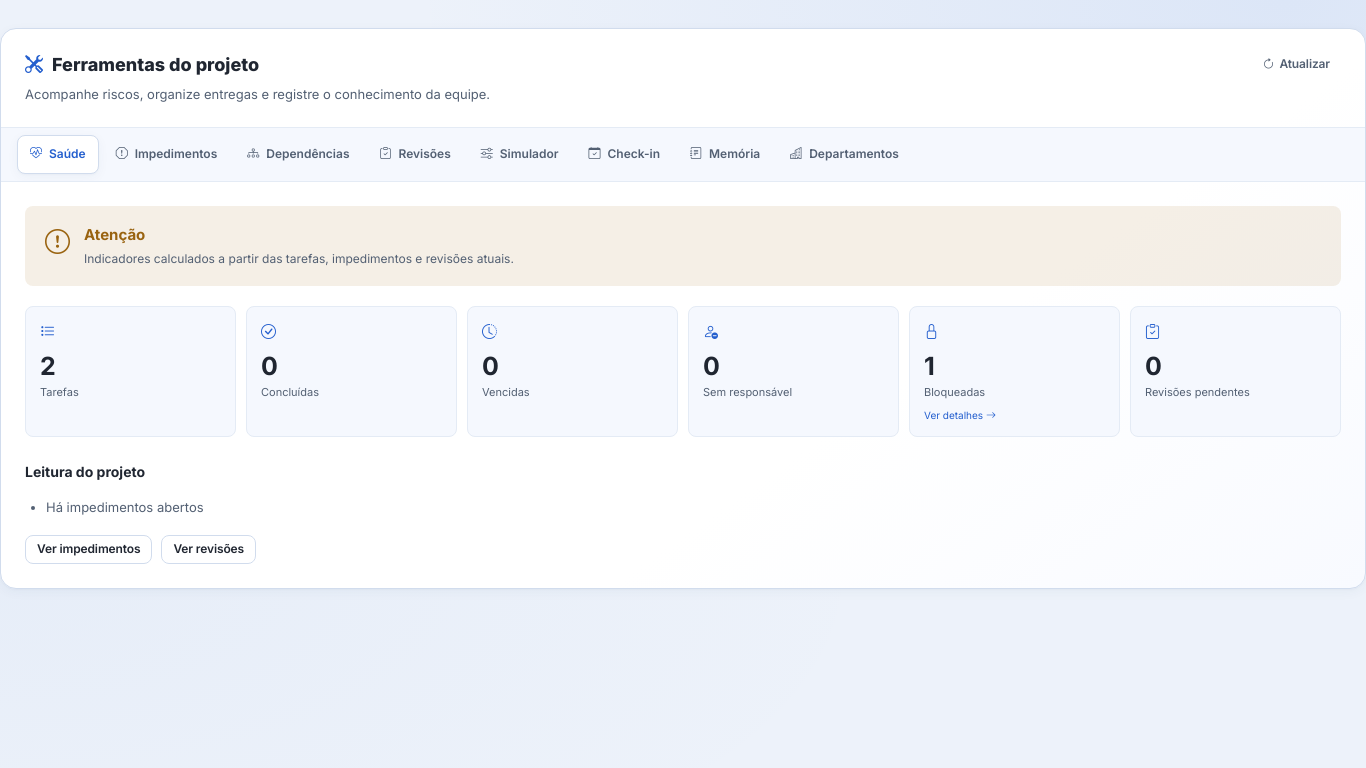
Test case: permissão usa canManage do projeto e restringe revisão às tarefas do usuário
The image size is (1366, 768).
Step 1. Click the tab "Dependências" → {"x": 298, "y": 154}, box [234,135,362,174]
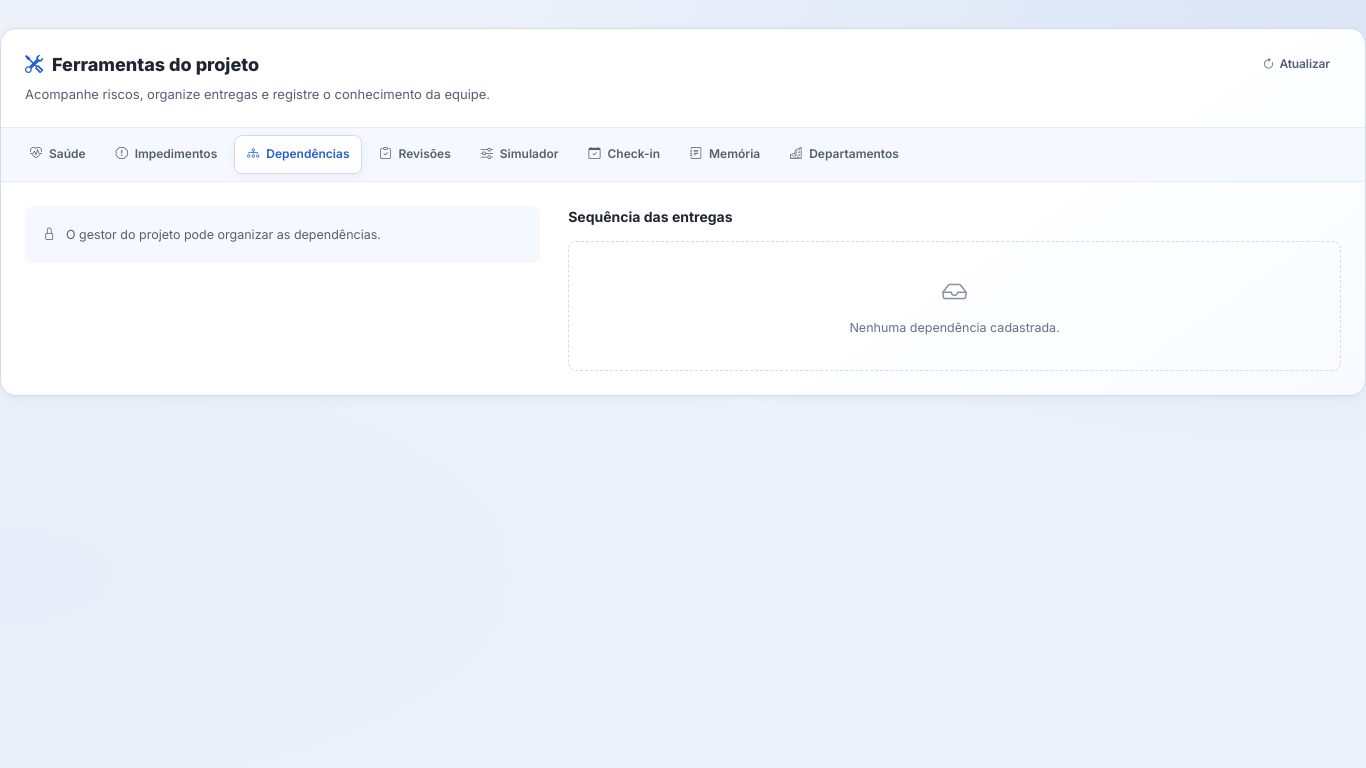
Step 2. Click the tab "Simulador" → {"x": 520, "y": 154}, box [468,135,572,174]
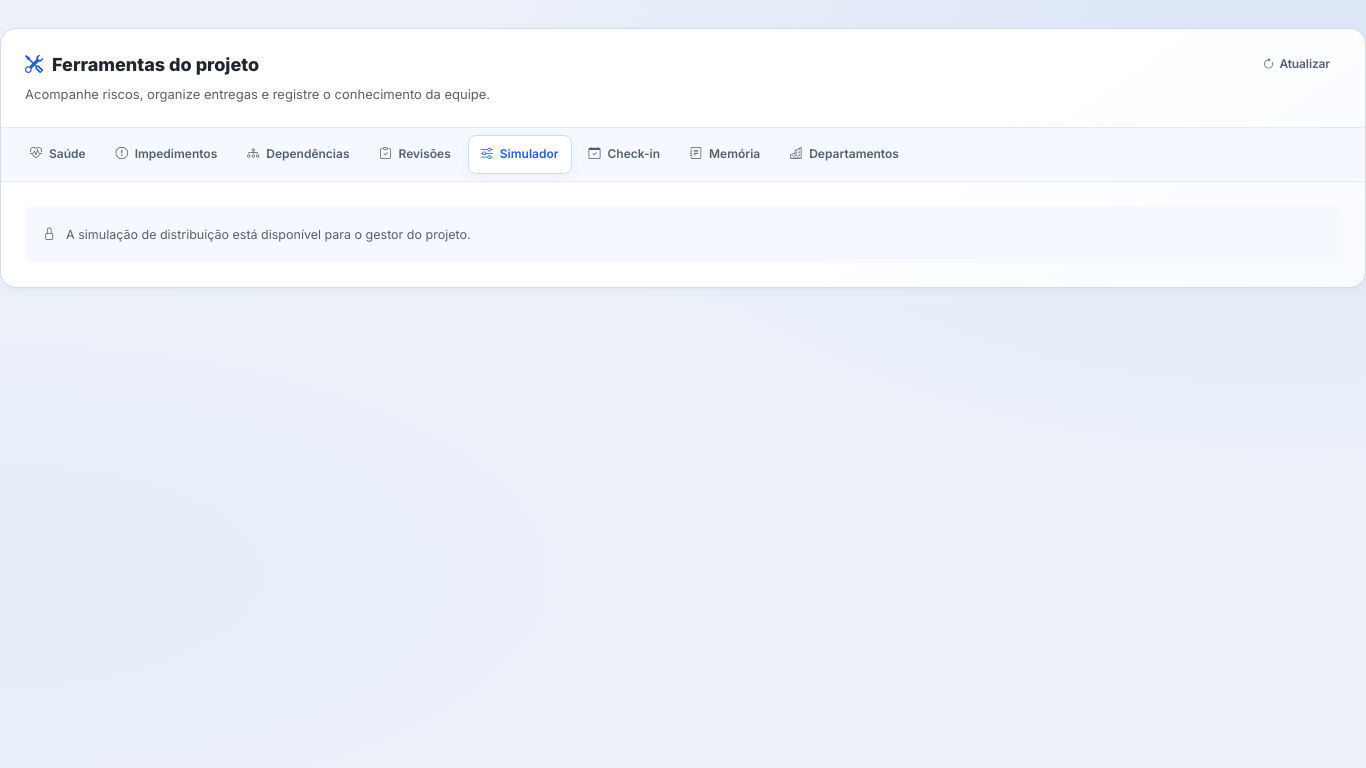
Step 3. Click the tab "Revisões" → {"x": 415, "y": 154}, box [366,135,464,174]
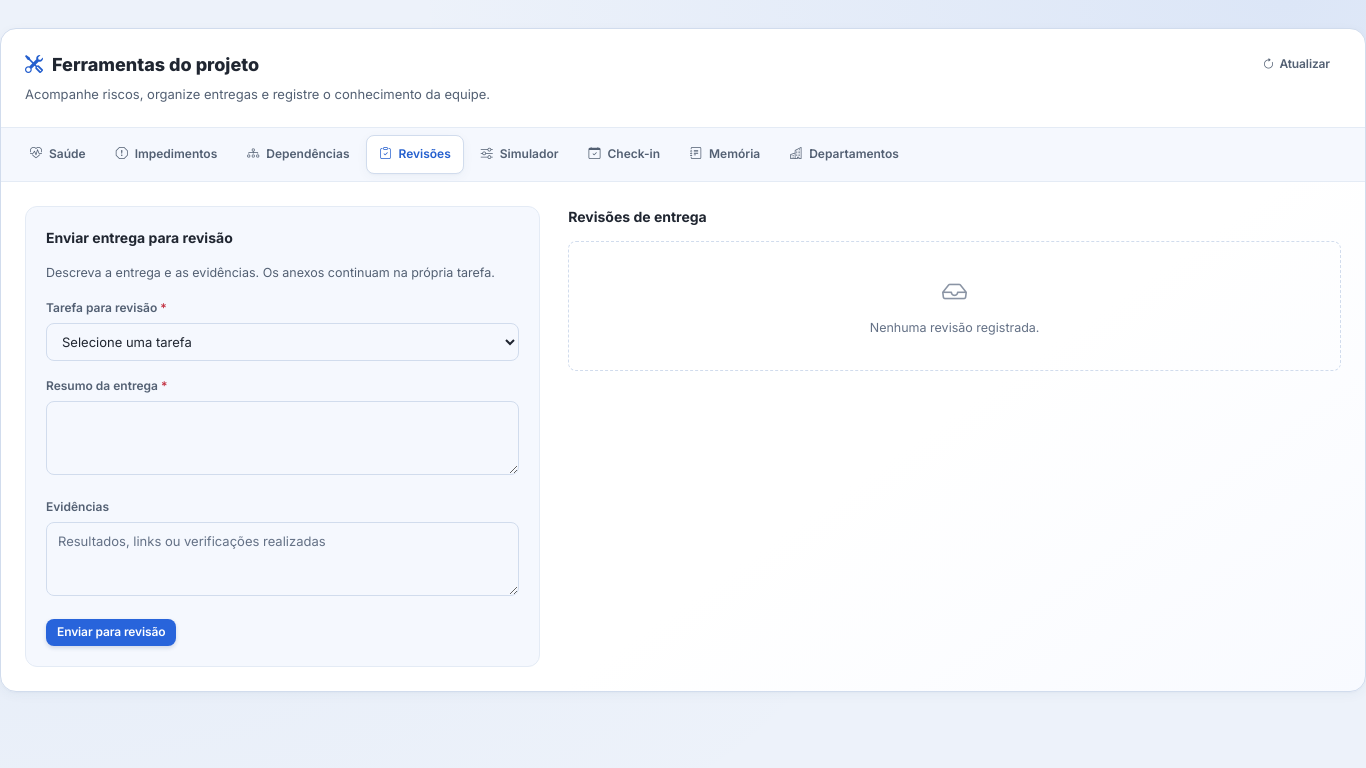
Now the label "Tarefa para revisão *" is shown, box [46,300,167,315]
